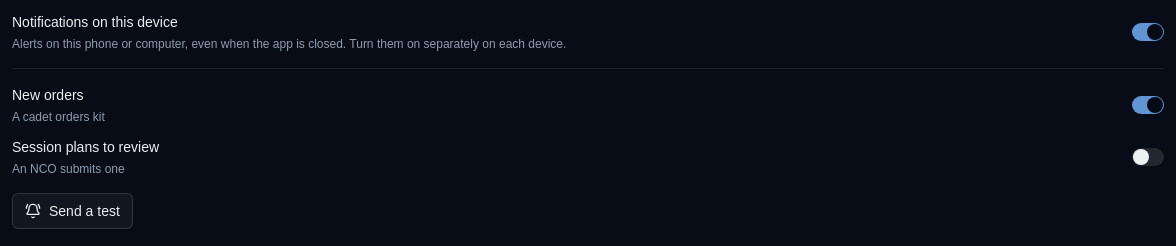
Test: notification settings › turning it off forgets the device on the server, then in the browser
The width and height of the screenshot is (1176, 246).
Click the switch named "Notifications on this device" in the row of "Notifications on this device".
click(1148, 32)  # box x1=1132 y1=23 x2=1164 y2=41
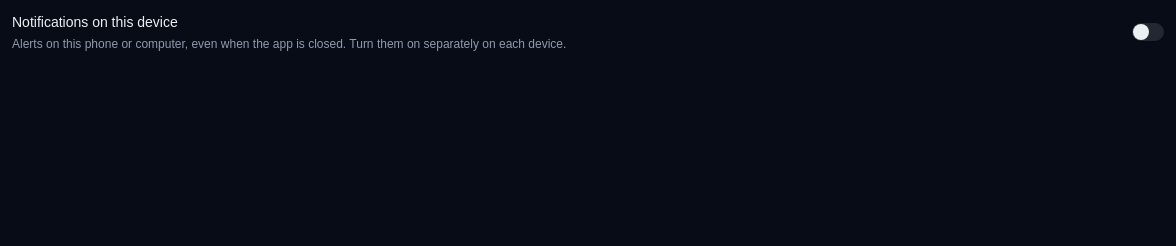
Expected: the switch named "Notifications on this device" is not checked, x1=1132 y1=23 x2=1164 y2=41
Expected: the button "Send a test" is gone
